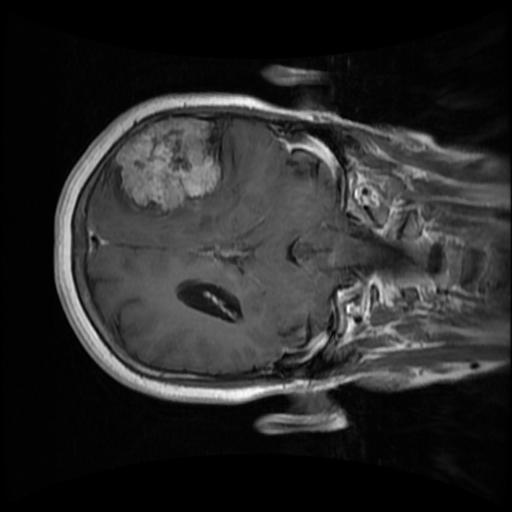meningioma: (114, 117, 220, 212)
